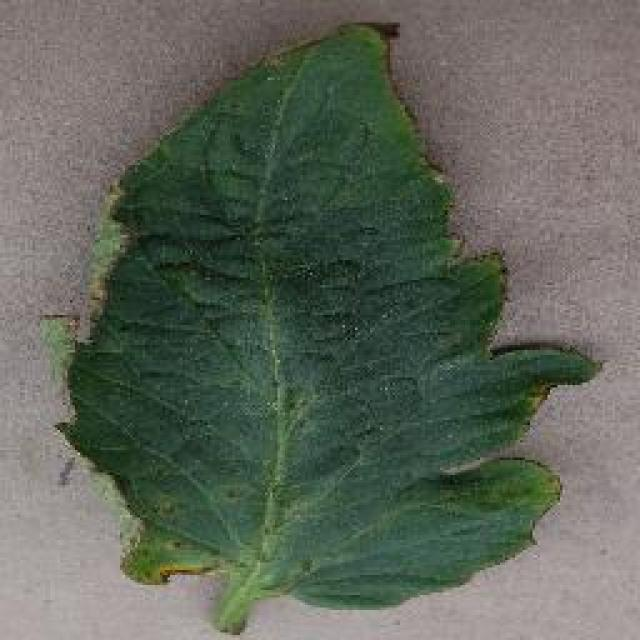Tomato___Bacterial_spot: (22, 20, 610, 638)
